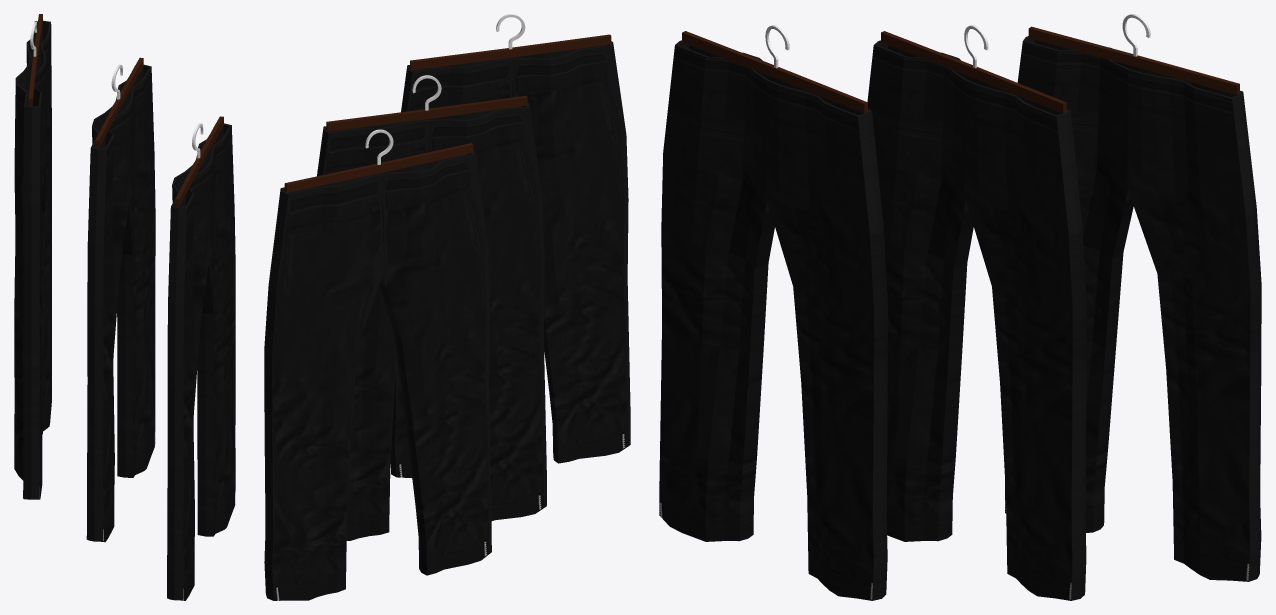
File: chinoblack1.glb
3 renders of one model, left to right at view 1: azimuth 30°, elevation 25°; view 2: azimuth 150°, elevation 25°; view 3: azimuth 270°, elevation 25°, orthographic. The views are drawn at different scales.
Parts seen in each view (by area): view 1: Plane.320; view 2: Plane.320; view 3: Plane.320.
Part boxes in pixels (<box>): Plane.320: <box>14,14,235,600</box>; Plane.320: <box>264,14,630,600</box>; Plane.320: <box>659,14,1261,600</box>.
Size of the model in its own units: 0.1763 by 0.4706 by 0.4779.
Materials: 3 (3 with a texture image).
